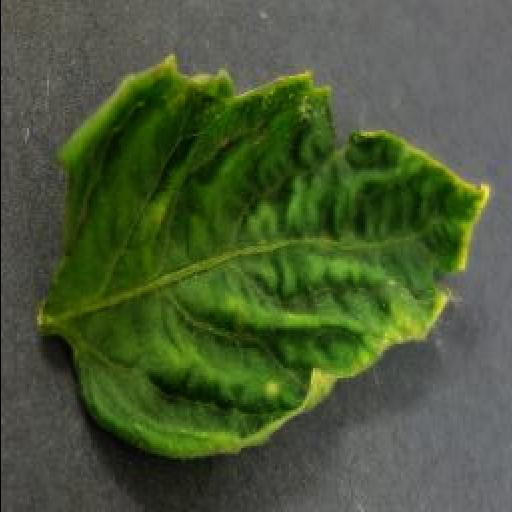disease_tomato: (55, 60, 493, 466)
